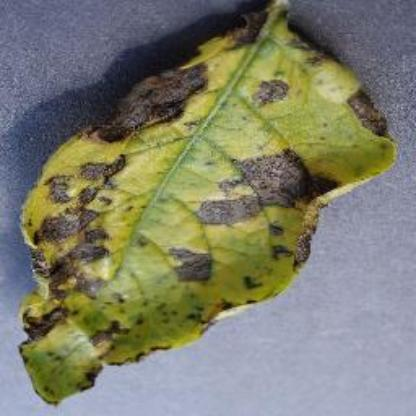Early-Blight: (20, 0, 398, 406)
